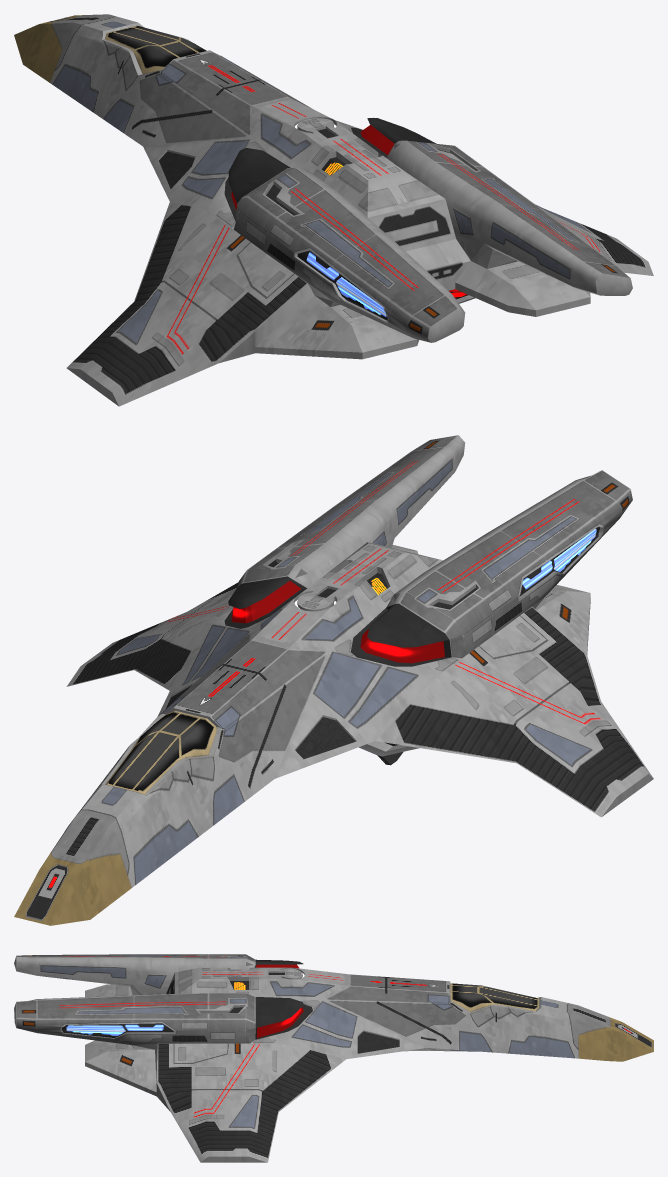
Rendered from Gryphon.FBX.
3 views of the same model, one above another, from view 1: azimuth 30°, elevation 25°; view 2: azimuth 150°, elevation 25°; view 3: azimuth 270°, elevation 25° (orthographic). The views are drawn at different scales.
Visible parts, largest first — view 1: 1, Light 4; view 2: 1, Light 1, Light 4; view 3: 1, Light 4, Light 1.
Boxes of the visible parts, x1,y1,x2,y2 form: 1: [14, 14, 653, 406]; Light 4: [297, 250, 387, 320]; 1: [14, 435, 653, 925]; Light 1: [231, 581, 444, 663]; Light 4: [519, 527, 599, 596]; 1: [14, 954, 653, 1162]; Light 4: [62, 1023, 173, 1037]; Light 1: [256, 964, 303, 1037].
Bounding box in the file's own units: 30.27 × 8.93 × 48.89.
Materials: 1 (1 with a texture image).
